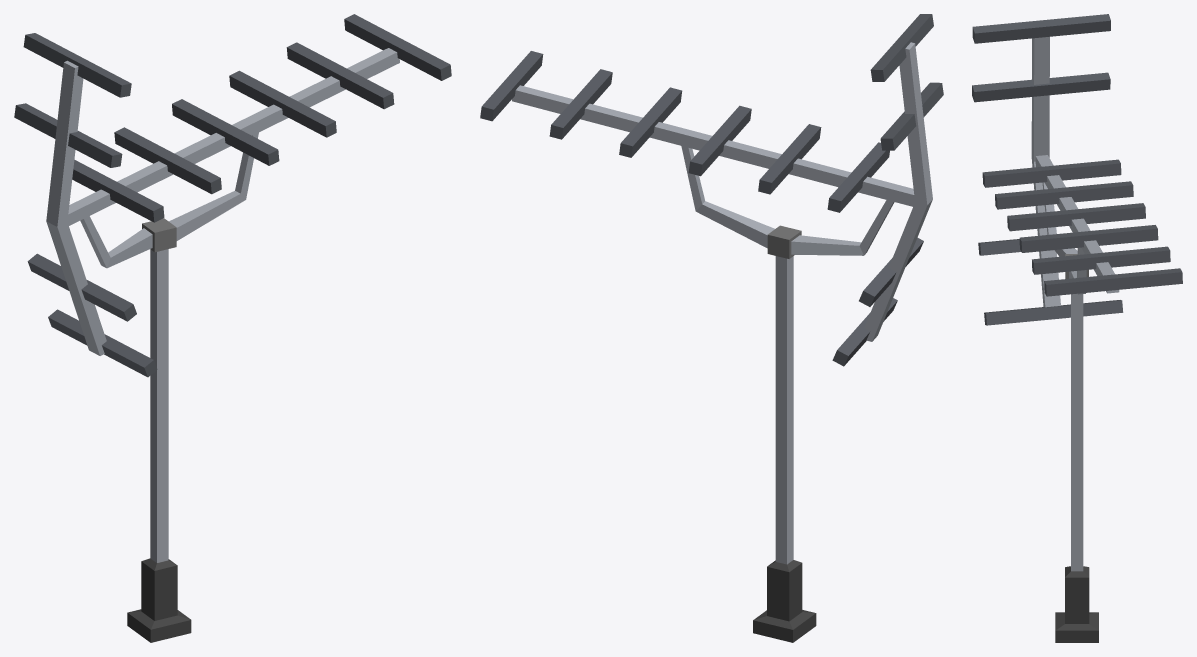
Rendered from SM_Prop_Antenna_01.obj.
3 views of the same model, side by side, from view 1: azimuth 30°, elevation 25°; view 2: azimuth 150°, elevation 25°; view 3: azimuth 270°, elevation 25° (orthographic). The views are drawn at different scales.
Parts seen in each view (by area): view 1: SM_Prop_Antenna_01_0; view 2: SM_Prop_Antenna_01_0; view 3: SM_Prop_Antenna_01_0.
Part boxes in pixels (box(x1,y1,x2,y2)): SM_Prop_Antenna_01_0: box(14, 14, 451, 642); SM_Prop_Antenna_01_0: box(480, 14, 943, 642); SM_Prop_Antenna_01_0: box(972, 14, 1182, 642).
Size of the model in its own units: 1.24 by 1.78 by 0.6007.
1 material, 1 textured.
